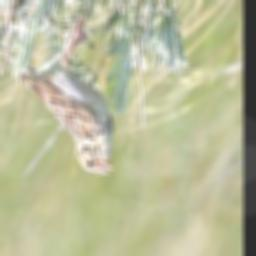Sparrow: (0, 23, 115, 182)
